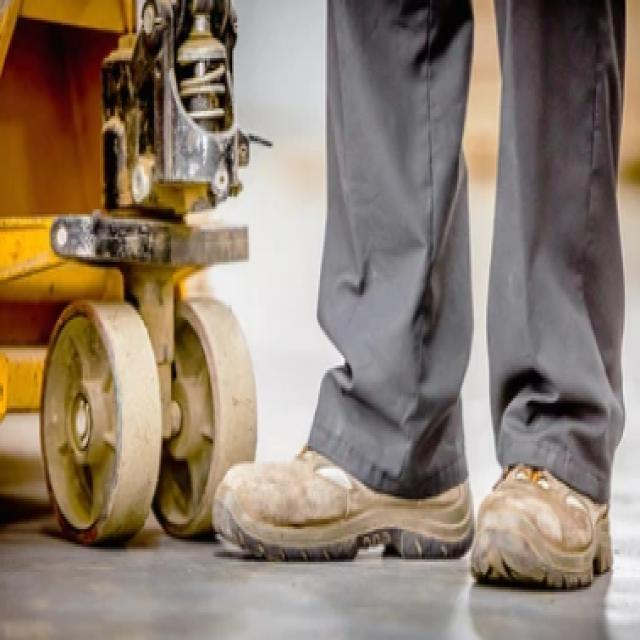shoes: (211, 367, 620, 599)
